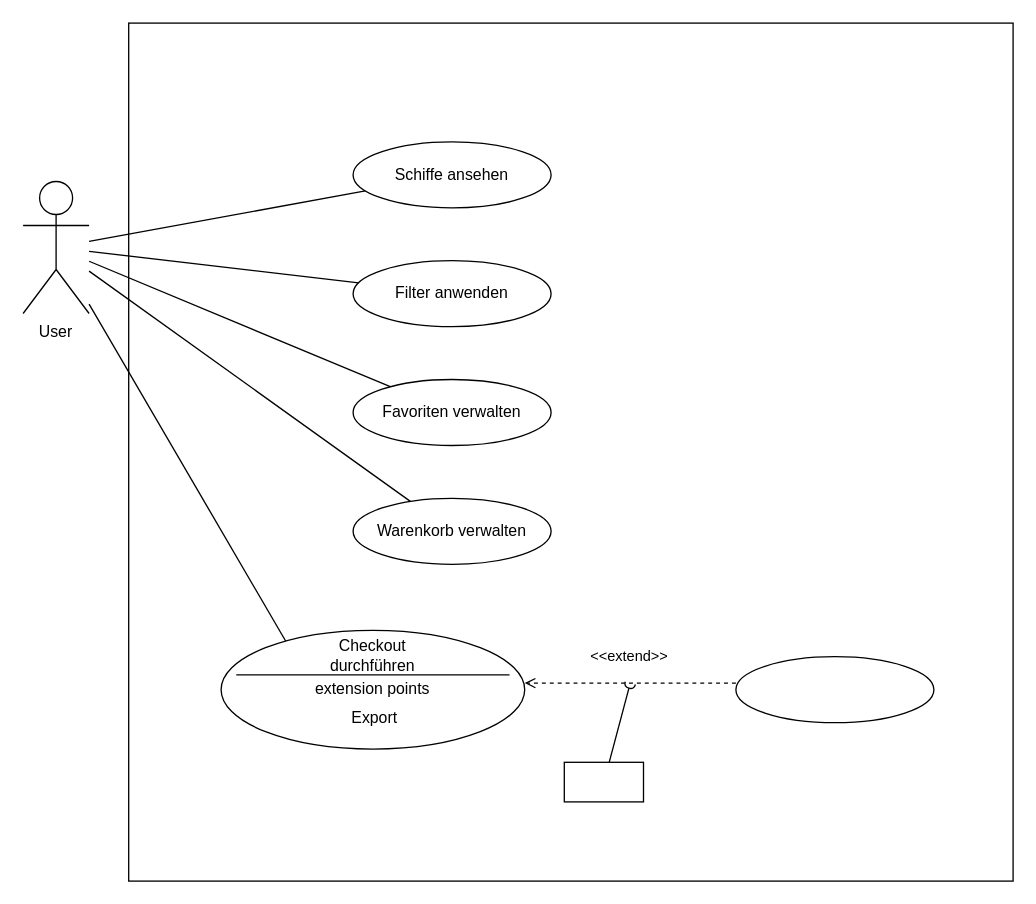
This 1036x904 diagram has some shape labels left out. The centre of each missing label's shape, as x and y in pixels:
"condition: extension points: Export" goes at point 603,781.
"Rechnung exportieren" goes at point 834,689.
